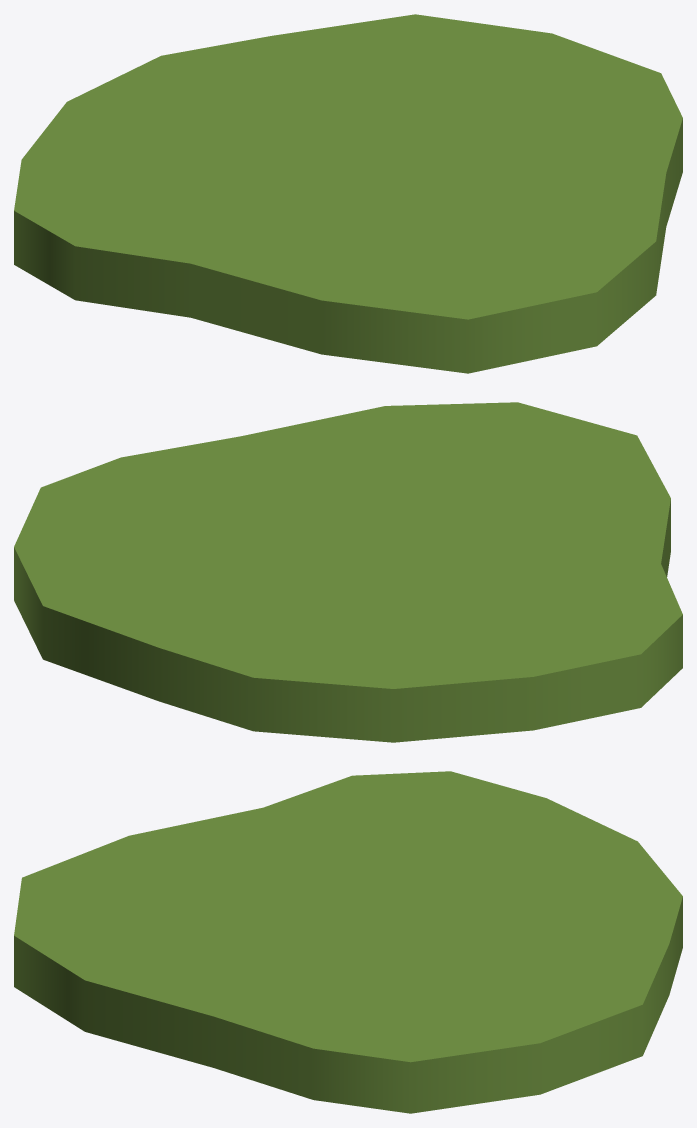
Rendered from 9_augurk.fbx.
3 renders of one model, top to bottom at view 1: azimuth 30°, elevation 25°; view 2: azimuth 150°, elevation 25°; view 3: azimuth 270°, elevation 25°, orthographic. The views are drawn at different scales.
Parts seen in each view (by area): view 1: augurk.005; view 2: augurk.005; view 3: augurk.005.
Part boxes in pixels (<box>): augurk.005: <box>14,14,682,373</box>; augurk.005: <box>14,402,682,742</box>; augurk.005: <box>14,771,682,1113</box>.
Bounding box in the file's own units: 56.25 × 54.65 × 4.64.
